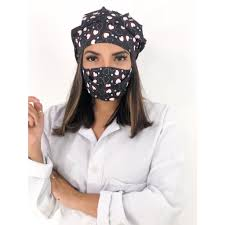with_mask_and_cap: (74, 16, 136, 101)
